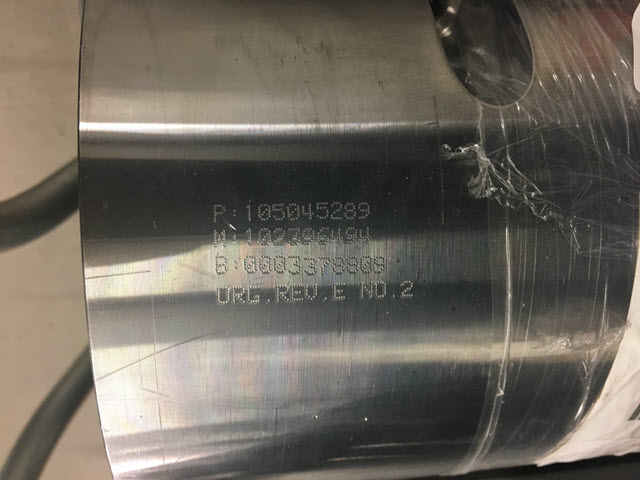character: (300, 253, 320, 278), (372, 278, 390, 304), (315, 253, 333, 279), (240, 253, 260, 276), (356, 200, 373, 227), (343, 252, 361, 277), (211, 199, 227, 227), (314, 223, 331, 248), (395, 277, 415, 298), (270, 226, 289, 248), (330, 281, 348, 304), (212, 253, 229, 277), (286, 224, 303, 248), (331, 253, 347, 278), (274, 283, 292, 305), (214, 284, 232, 306), (358, 278, 375, 301), (372, 251, 387, 277), (256, 252, 272, 276), (271, 252, 287, 276), (329, 223, 345, 247), (329, 199, 344, 224), (285, 254, 302, 276), (255, 201, 272, 223), (270, 201, 287, 223), (314, 200, 331, 222), (303, 280, 319, 303), (285, 200, 301, 223), (289, 281, 304, 305), (246, 284, 263, 305), (357, 253, 374, 274), (211, 229, 228, 250), (256, 226, 272, 248), (343, 200, 358, 223), (357, 225, 374, 245), (343, 224, 358, 246), (232, 284, 247, 305), (300, 225, 315, 246), (300, 200, 315, 221), (244, 225, 255, 248), (243, 203, 254, 223)
